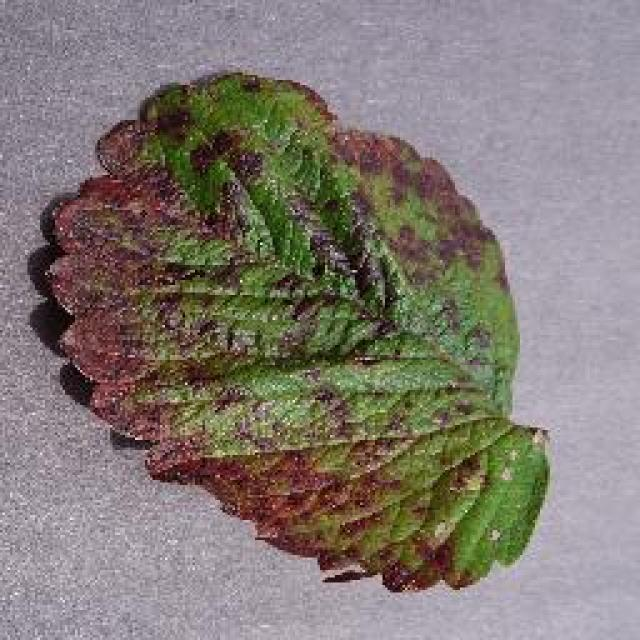Strawberry___Leaf_scorch: (22, 48, 562, 618)
